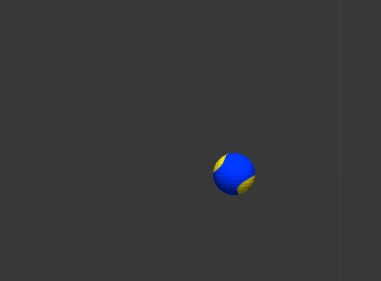toy story ball: (212, 153, 255, 196)
